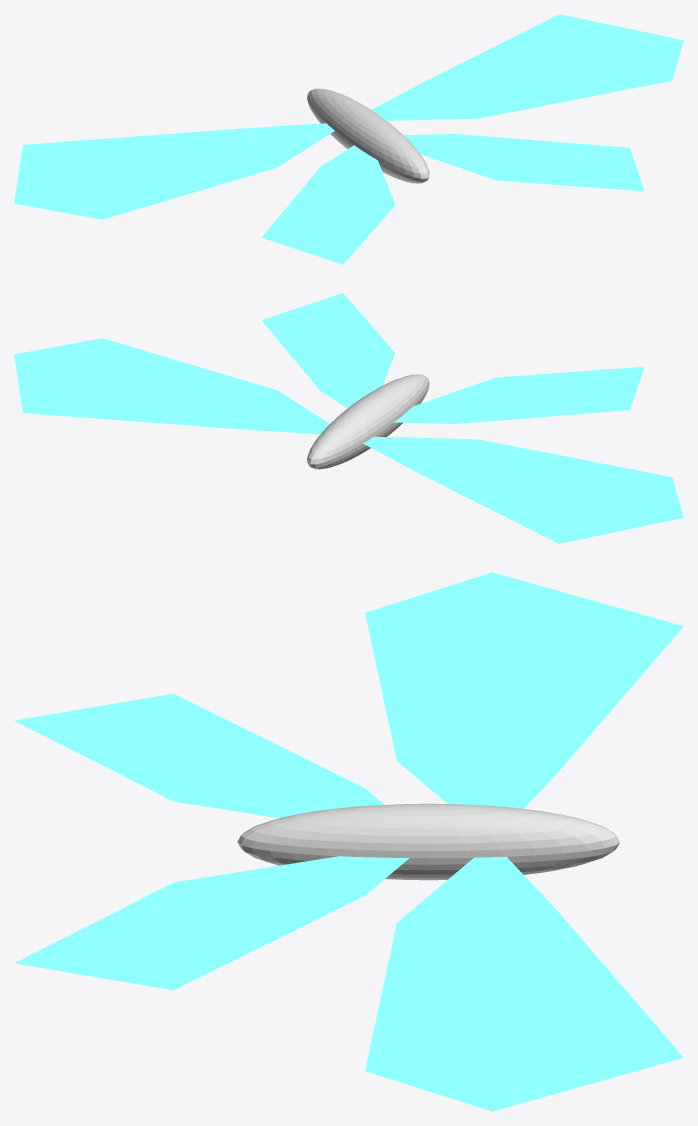
File: butterfly.glb
The picture shows the model from 3 angles, top to bottom: view 1: azimuth 30°, elevation 25°; view 2: azimuth 150°, elevation 25°; view 3: azimuth 270°, elevation 25°; orthographic projection. The views are drawn at different scales.
Parts seen in each view (by area): view 1: Wing_F_L, Wing_F_R, Wing_H_L, Wing_H_R, Butterfly_Body; view 2: Wing_F_L, Wing_F_R, Wing_H_L, Wing_H_R, Butterfly_Body; view 3: Wing_F_R, Wing_F_L, Wing_H_R, Wing_H_L, Butterfly_Body.
Boxes of the visible parts, x1,y1,x2,y2 form: Wing_F_L: (14,123,334,219); Wing_F_R: (371,14,683,120); Wing_H_L: (262,145,395,264); Wing_H_R: (404,134,644,191); Butterfly_Body: (307,88,429,183); Wing_F_L: (363,436,683,543); Wing_F_R: (14,338,329,434); Wing_H_L: (394,366,644,423); Wing_H_R: (262,293,395,408); Butterfly_Body: (307,374,429,469); Wing_F_R: (365,856,683,1111); Wing_F_L: (365,572,683,808); Wing_H_R: (14,856,409,990); Wing_H_L: (14,693,384,818); Butterfly_Body: (237,803,619,880).
Size of the model in its own units: 0.4 by 0.024 by 0.21.
